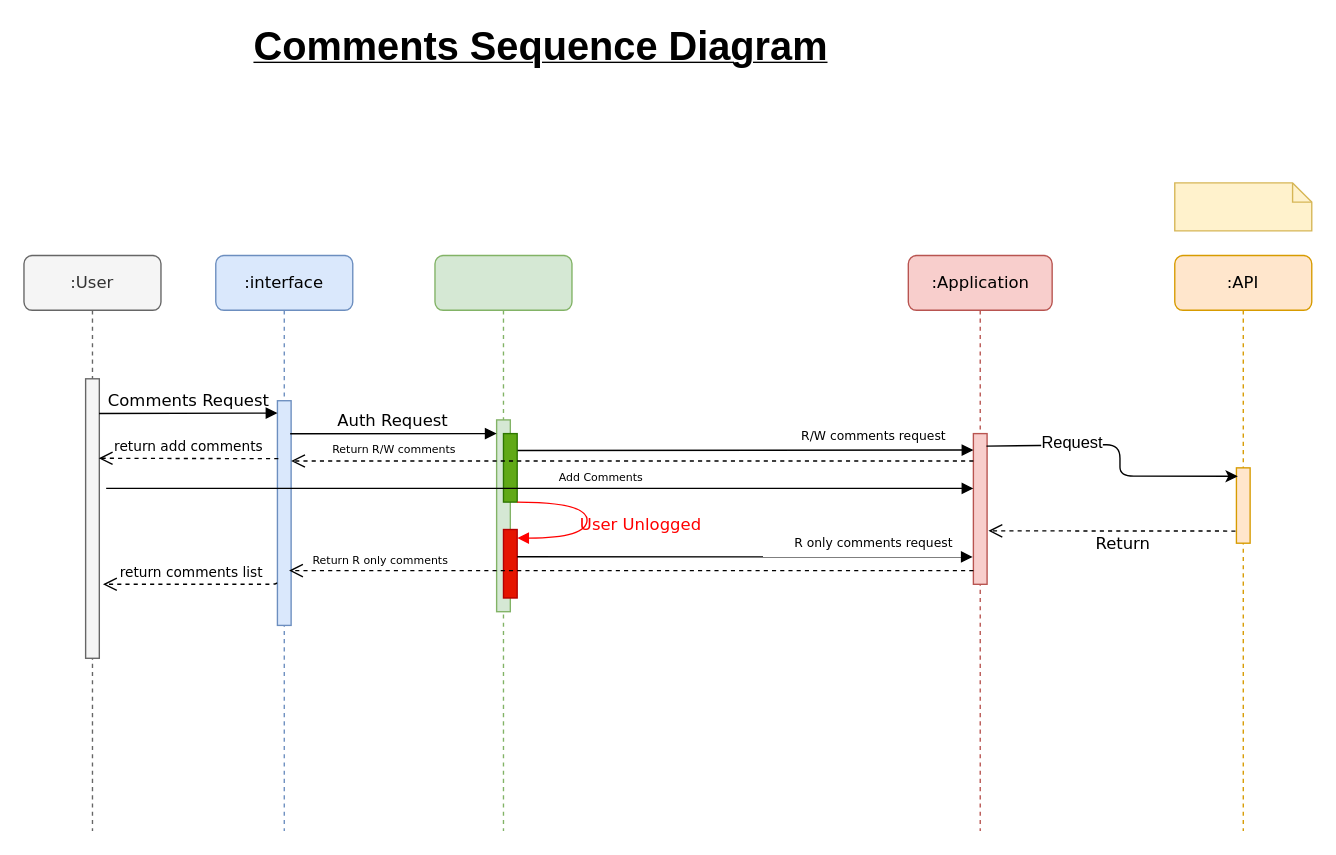
The diagram is 1336 pixels wide and 855 high, and some of its shapes have lost their labels. The centre of each missing label's shape, as x and y in pixels:
":auth" belongs at (x=503, y=542).
"Requesting back-end => BDD" belongs at (x=1242, y=206).
